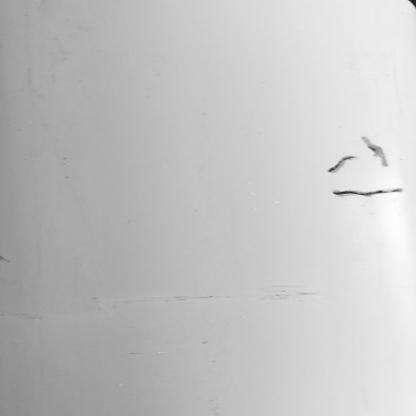fengxi: (331, 187, 404, 199), (364, 137, 391, 167), (328, 157, 351, 176)
